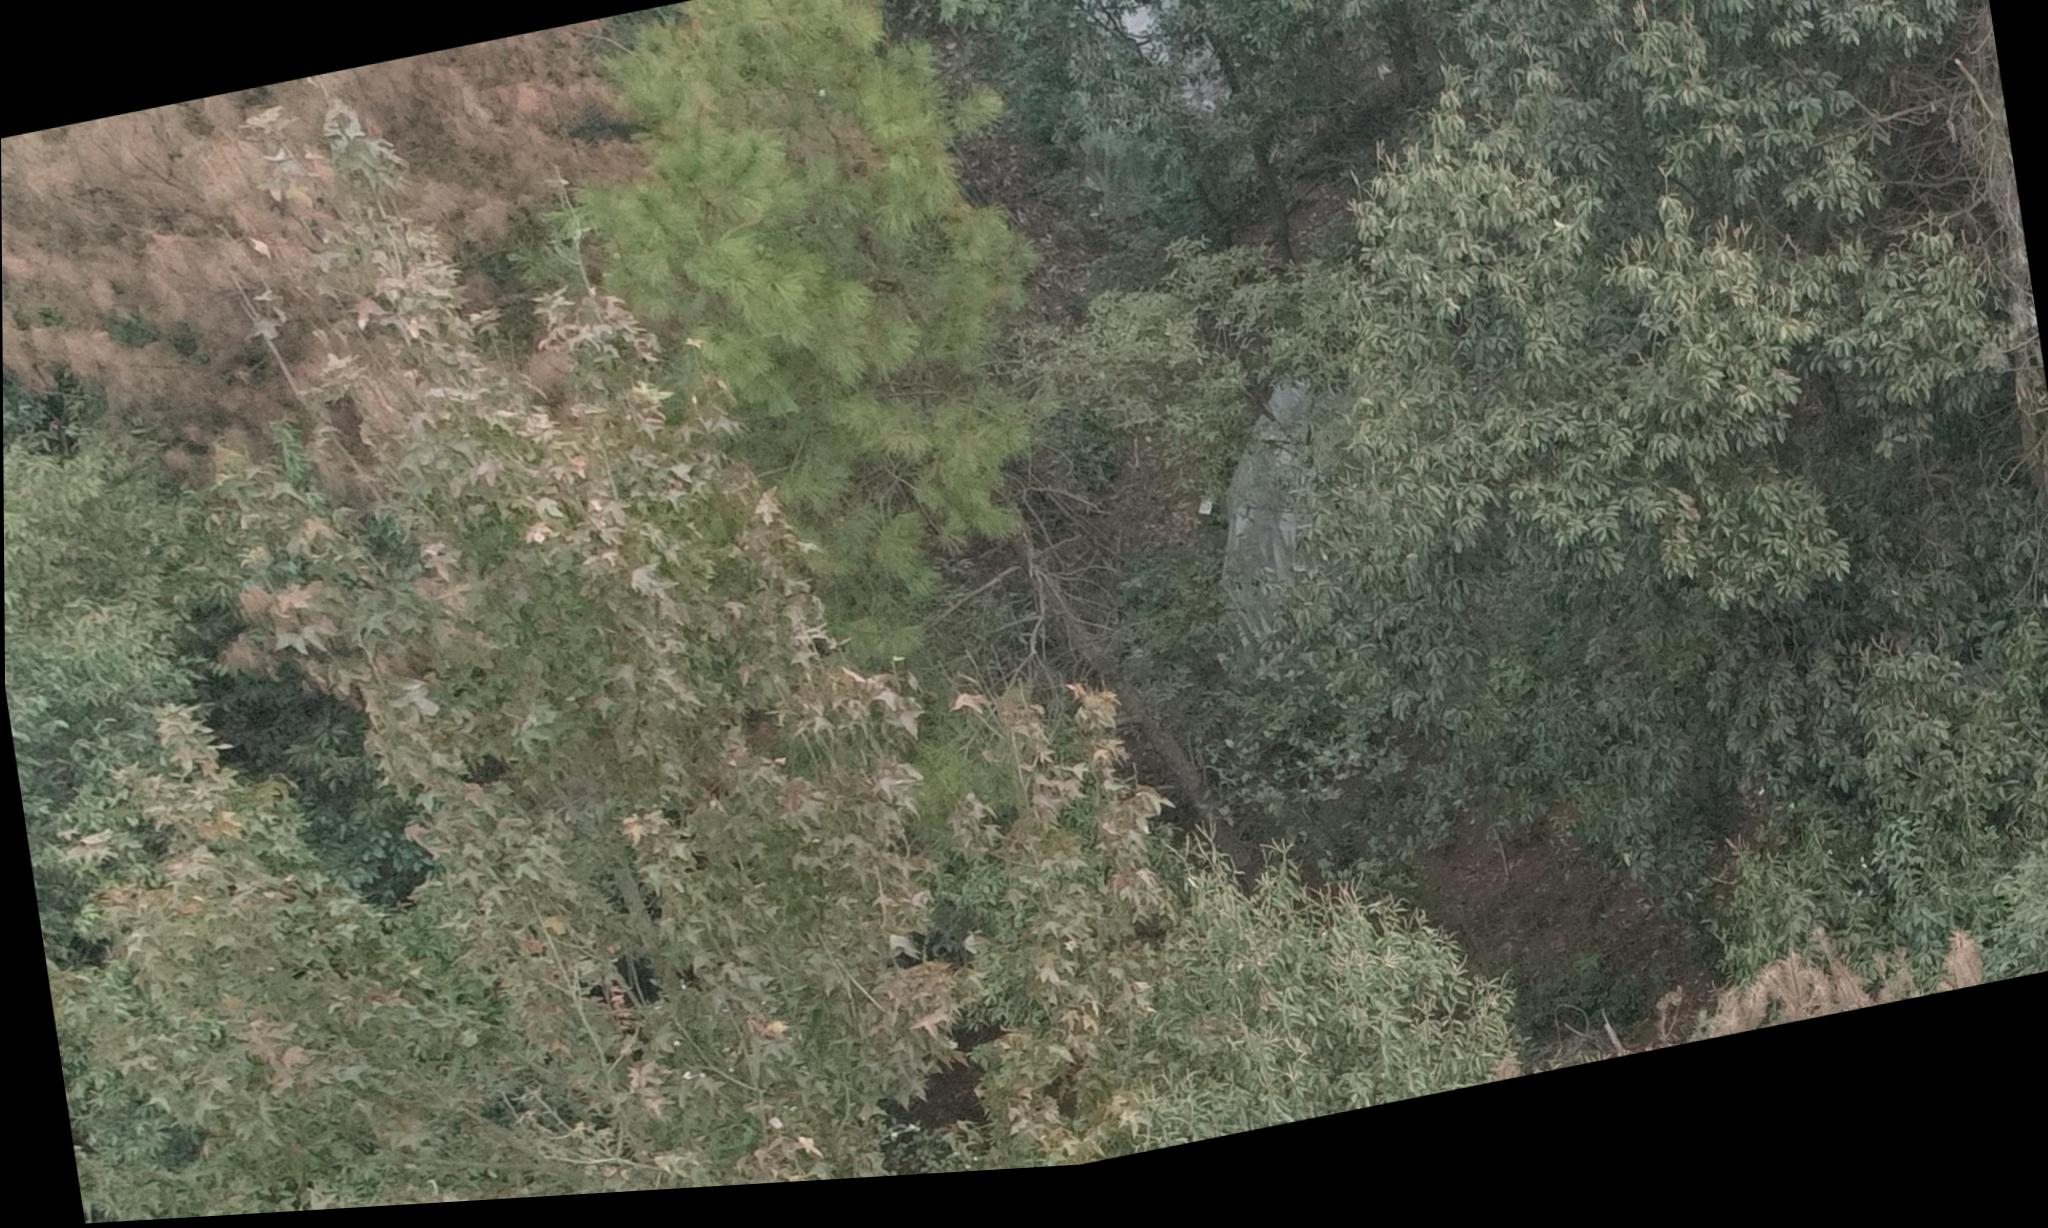heavy: (0, 32, 671, 480)
